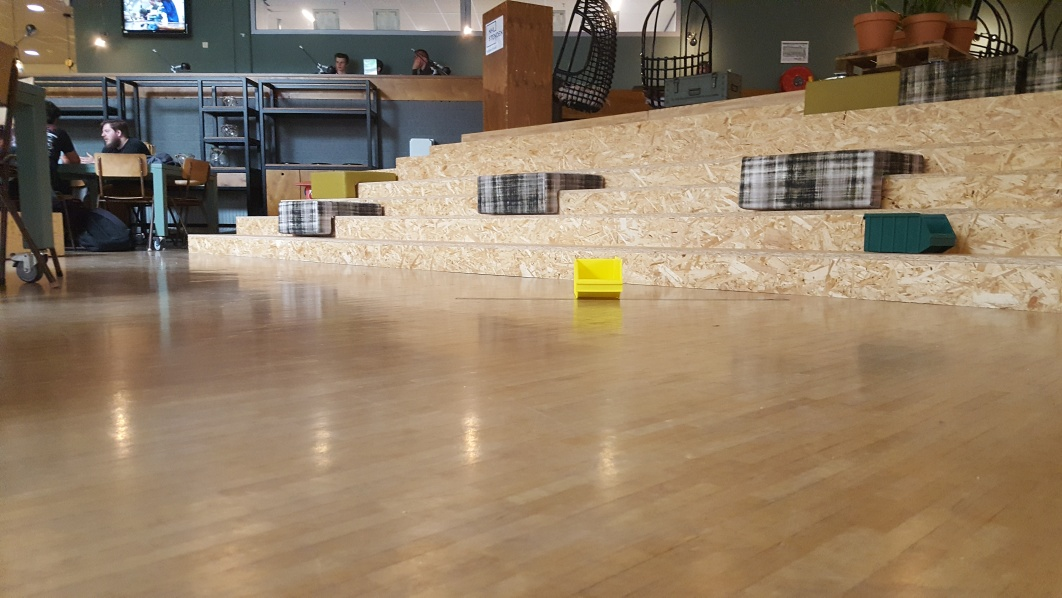tray: (861, 211, 957, 254), (570, 255, 625, 300)
